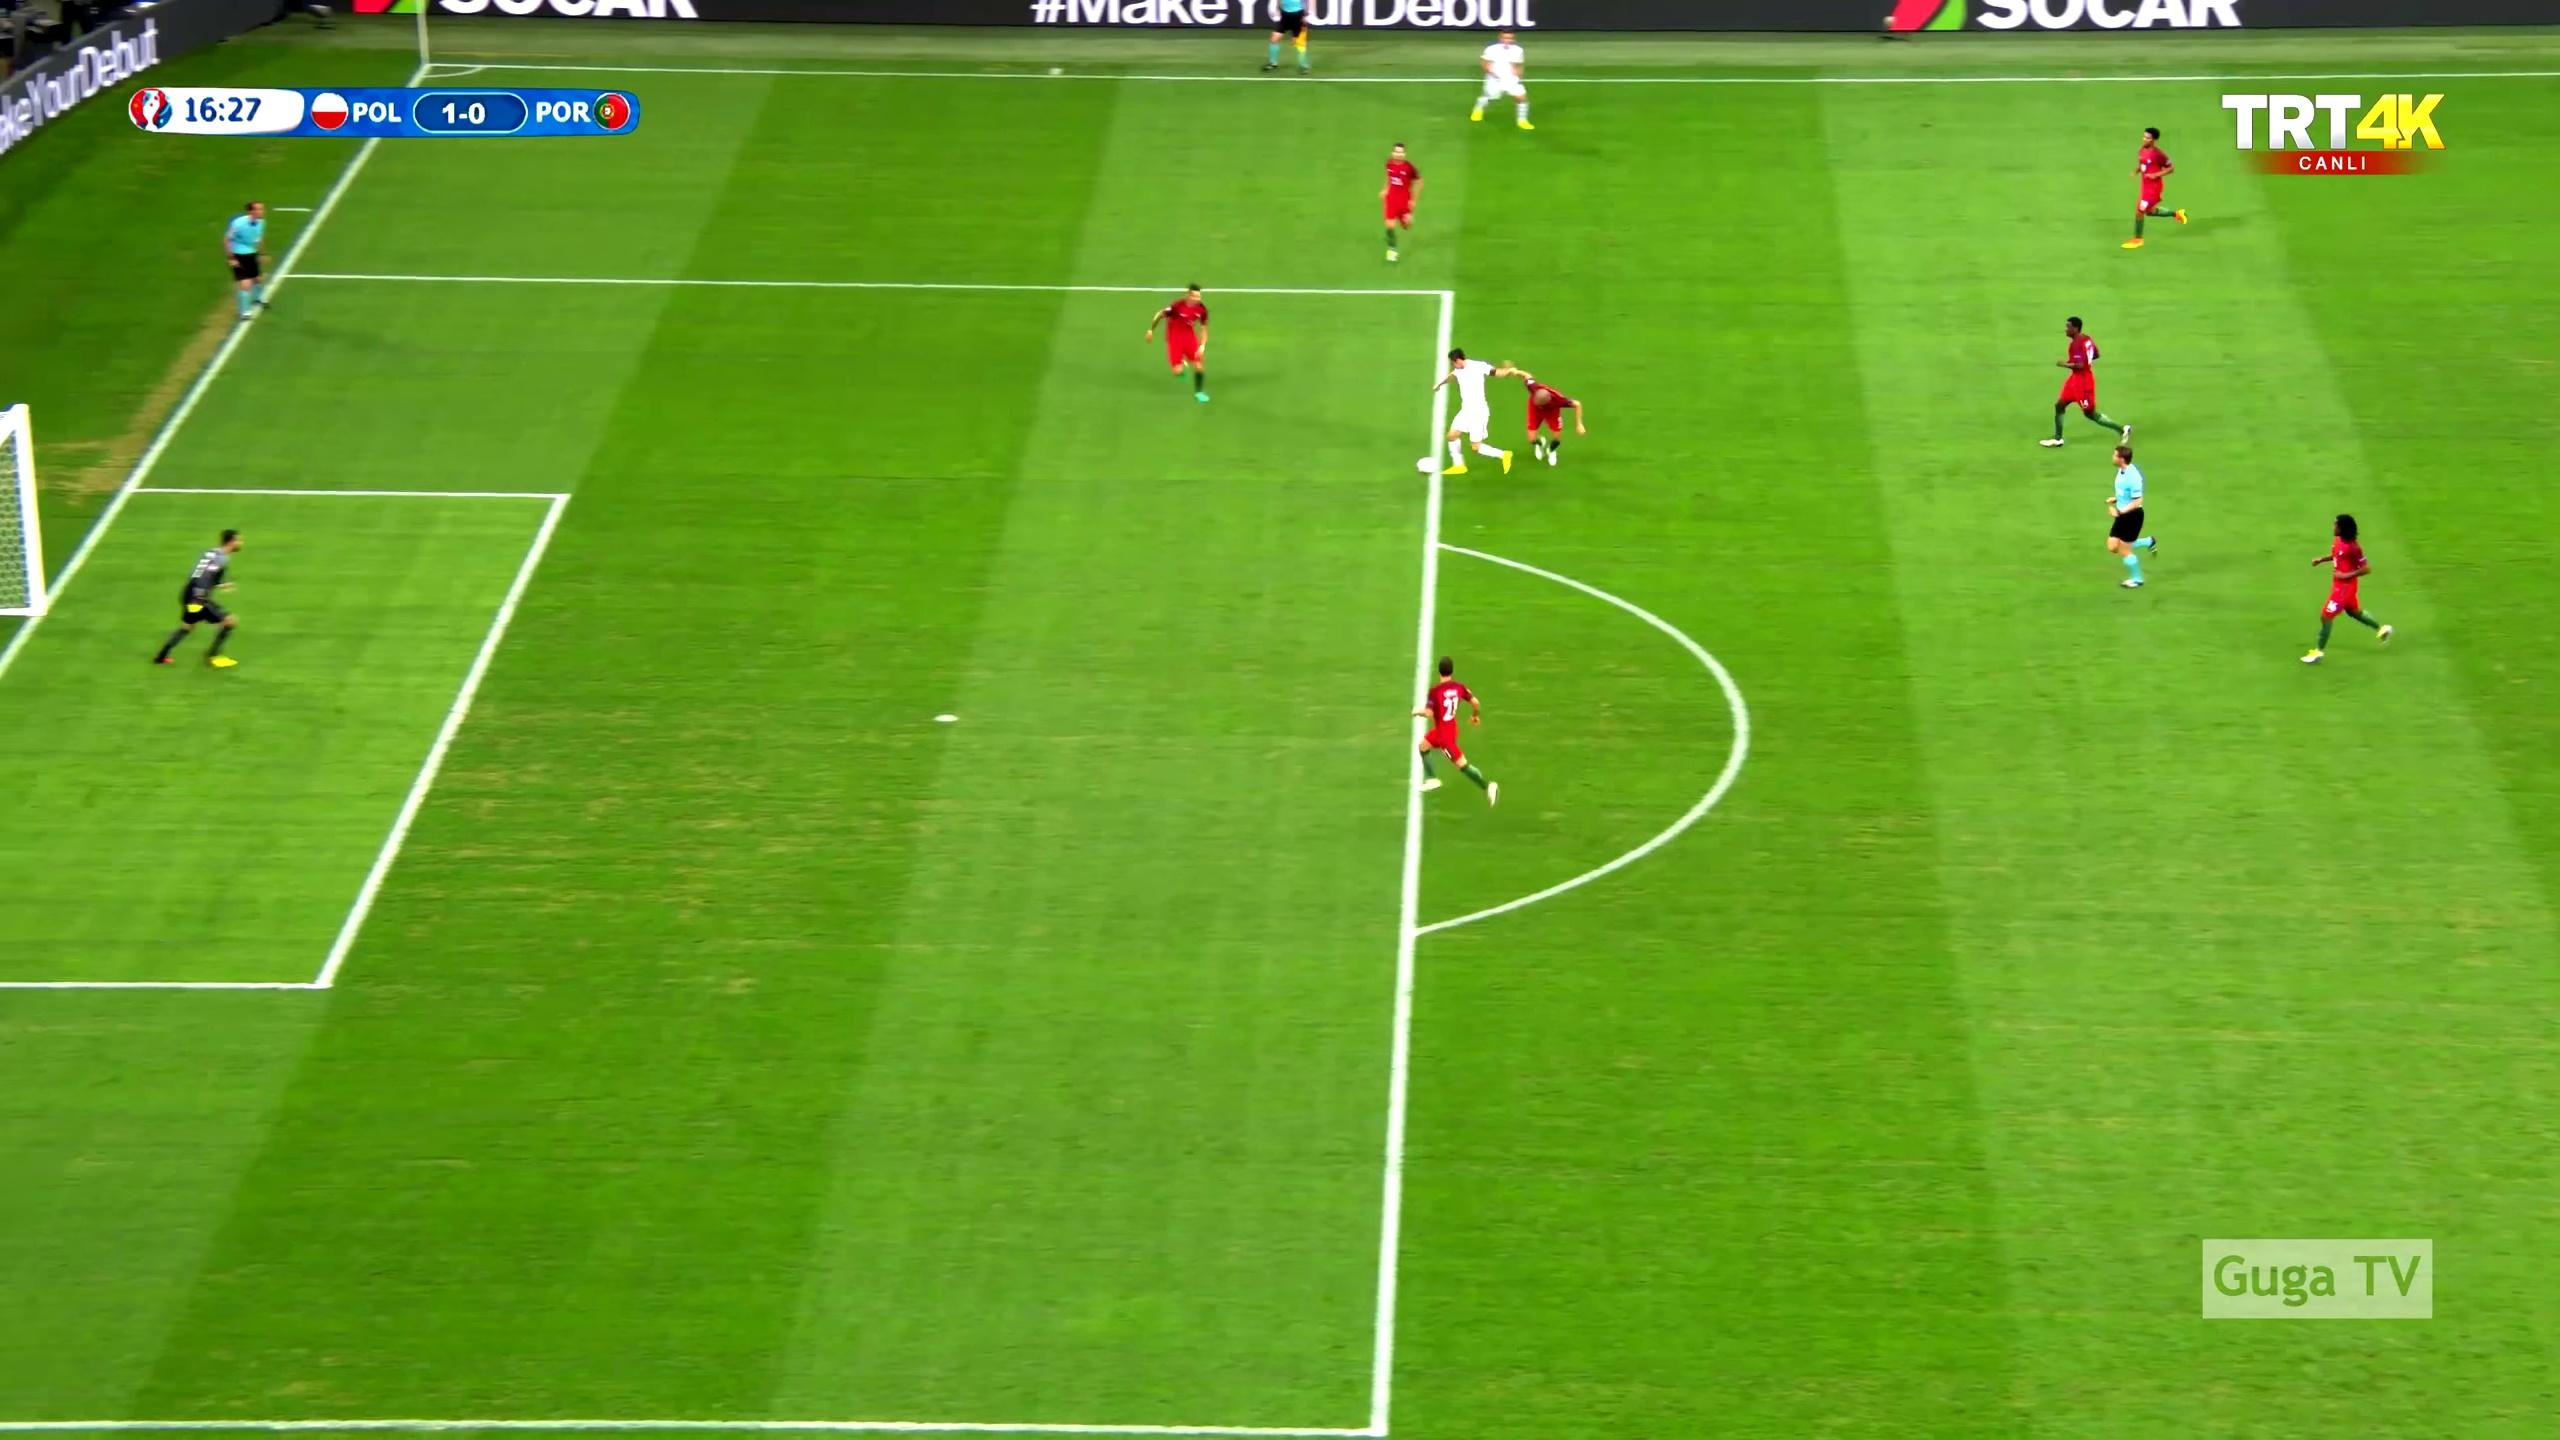ball: (1411, 453, 1441, 479)
goalkeeper: (150, 521, 259, 674)
player: (2296, 506, 2402, 678), (1409, 651, 1504, 812), (2034, 311, 2138, 451), (1429, 344, 1520, 479), (2117, 121, 2193, 254), (1499, 354, 1587, 468), (1141, 281, 1219, 409), (1469, 33, 1535, 133), (1376, 139, 1426, 266)
referee: (2101, 443, 2162, 599), (220, 197, 282, 323), (1259, 0, 1319, 83)
